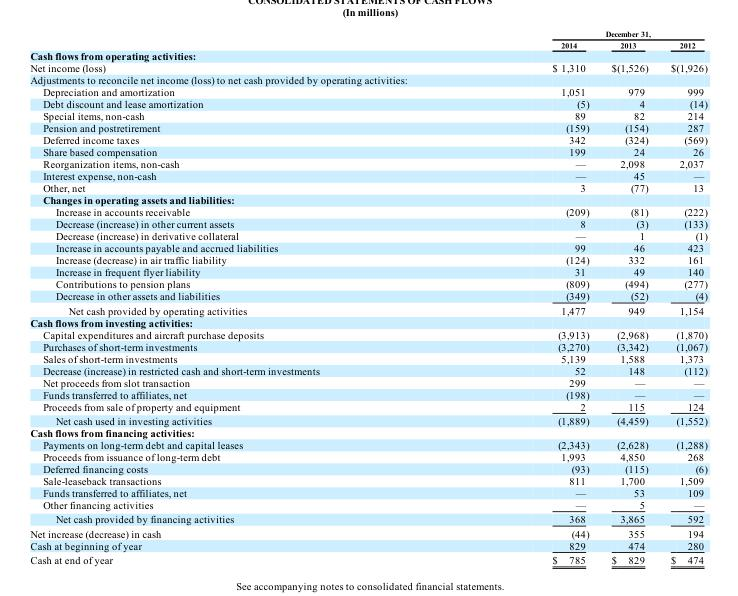table: (29, 29, 706, 565)
table column: (29, 29, 435, 565), (435, 29, 599, 565), (599, 29, 658, 565), (658, 29, 706, 565)
table column header: (29, 29, 706, 49)
table projected row header: (29, 49, 706, 61), (29, 73, 706, 85), (29, 193, 706, 205), (29, 316, 706, 328), (29, 426, 706, 438)
table row: (29, 511, 706, 526), (29, 302, 706, 316), (29, 289, 706, 302), (29, 400, 706, 413), (29, 413, 706, 426), (29, 498, 706, 511), (29, 526, 706, 539), (29, 539, 706, 552), (29, 552, 706, 565), (29, 49, 706, 61), (29, 61, 706, 73), (29, 73, 706, 85), (29, 85, 706, 97), (29, 97, 706, 109), (29, 109, 706, 121), (29, 121, 706, 133), (29, 133, 706, 145), (29, 145, 706, 157), (29, 157, 706, 169), (29, 169, 706, 181), (29, 181, 706, 193), (29, 193, 706, 205), (29, 205, 706, 217), (29, 217, 706, 229), (29, 229, 706, 241), (29, 241, 706, 253), (29, 253, 706, 265), (29, 265, 706, 277), (29, 277, 706, 289), (29, 316, 706, 328), (29, 328, 706, 340), (29, 340, 706, 352), (29, 352, 706, 364), (29, 364, 706, 376), (29, 376, 706, 388), (29, 388, 706, 400), (29, 426, 706, 438), (29, 438, 706, 450), (29, 450, 706, 462), (29, 462, 706, 474), (29, 474, 706, 486), (29, 486, 706, 498), (29, 29, 706, 39), (29, 39, 706, 49)
table spanning cell: (435, 29, 706, 39)
